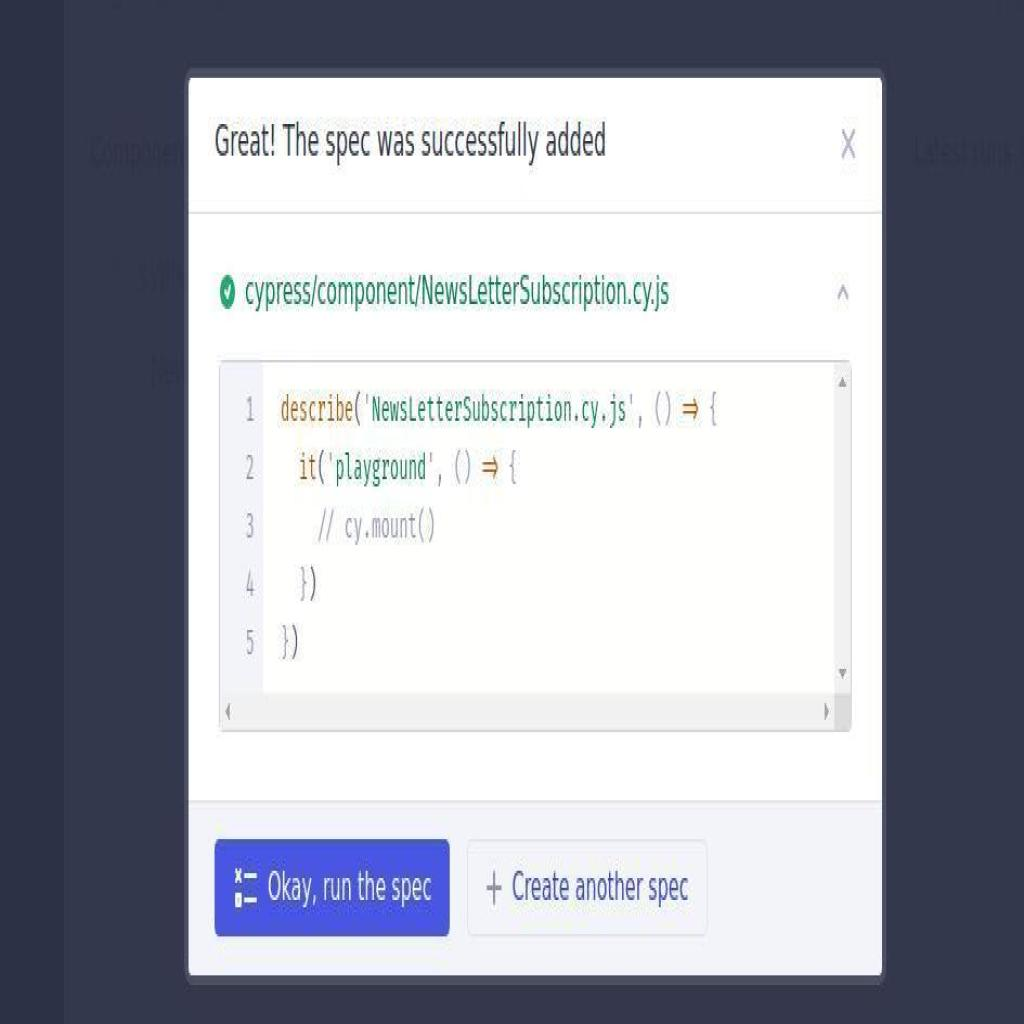button: (466, 839, 708, 937), (214, 837, 450, 936)
icon: (216, 265, 238, 316), (840, 124, 857, 165)
